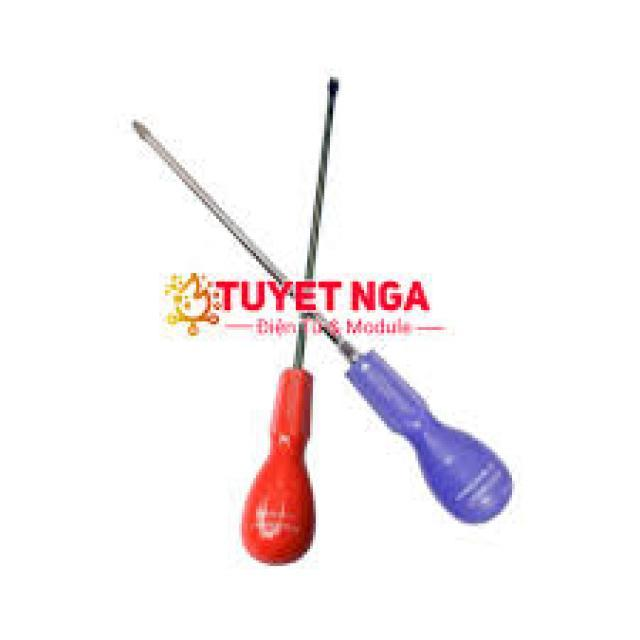screwdriver: (117, 104, 514, 528), (238, 68, 346, 569)
